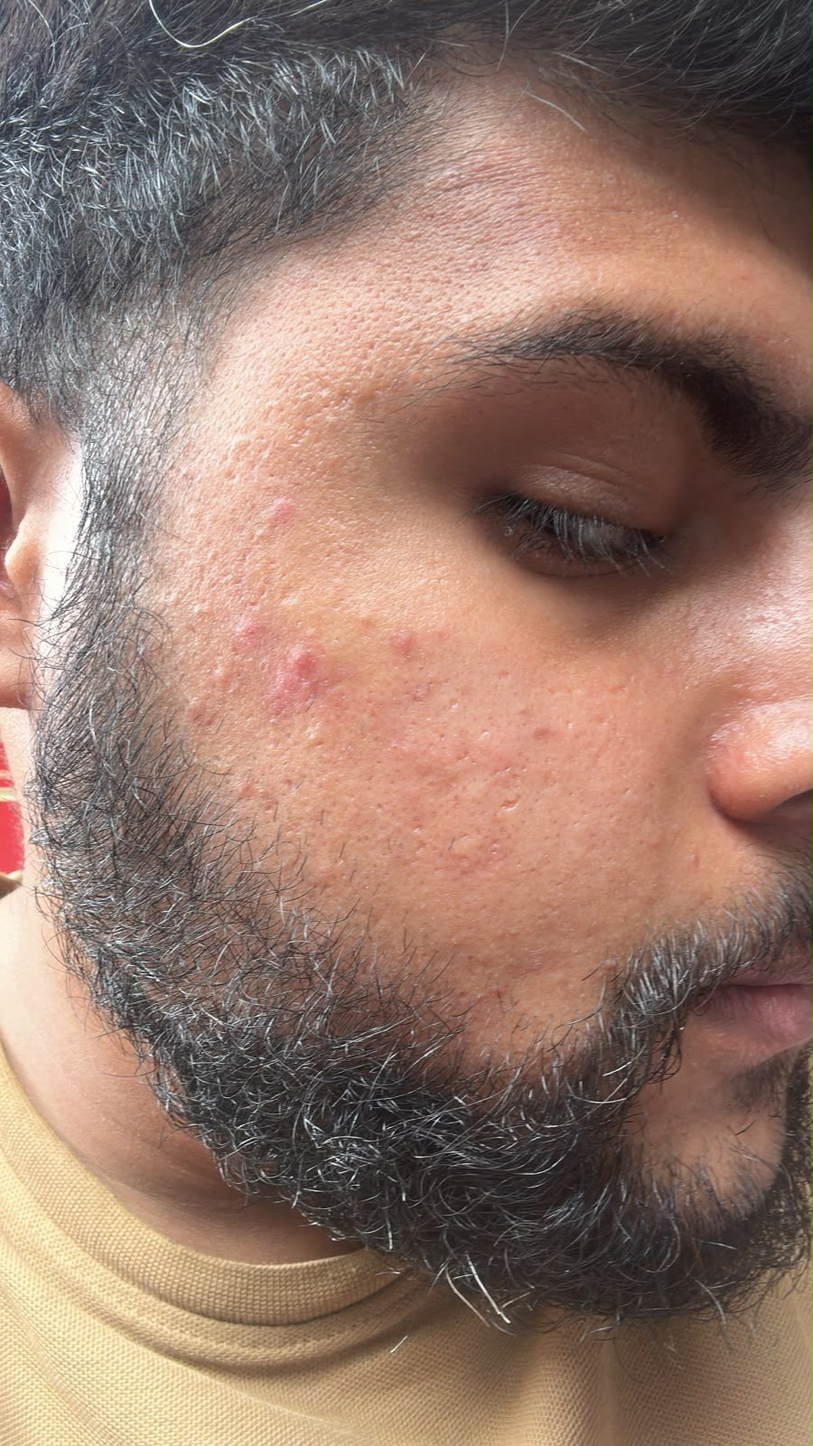closed_comedone: (516, 702, 530, 717)
macrocomedone: (352, 603, 381, 632), (731, 744, 760, 768), (304, 729, 325, 750)
papule: (282, 633, 321, 680), (225, 613, 264, 645), (387, 624, 417, 657)
